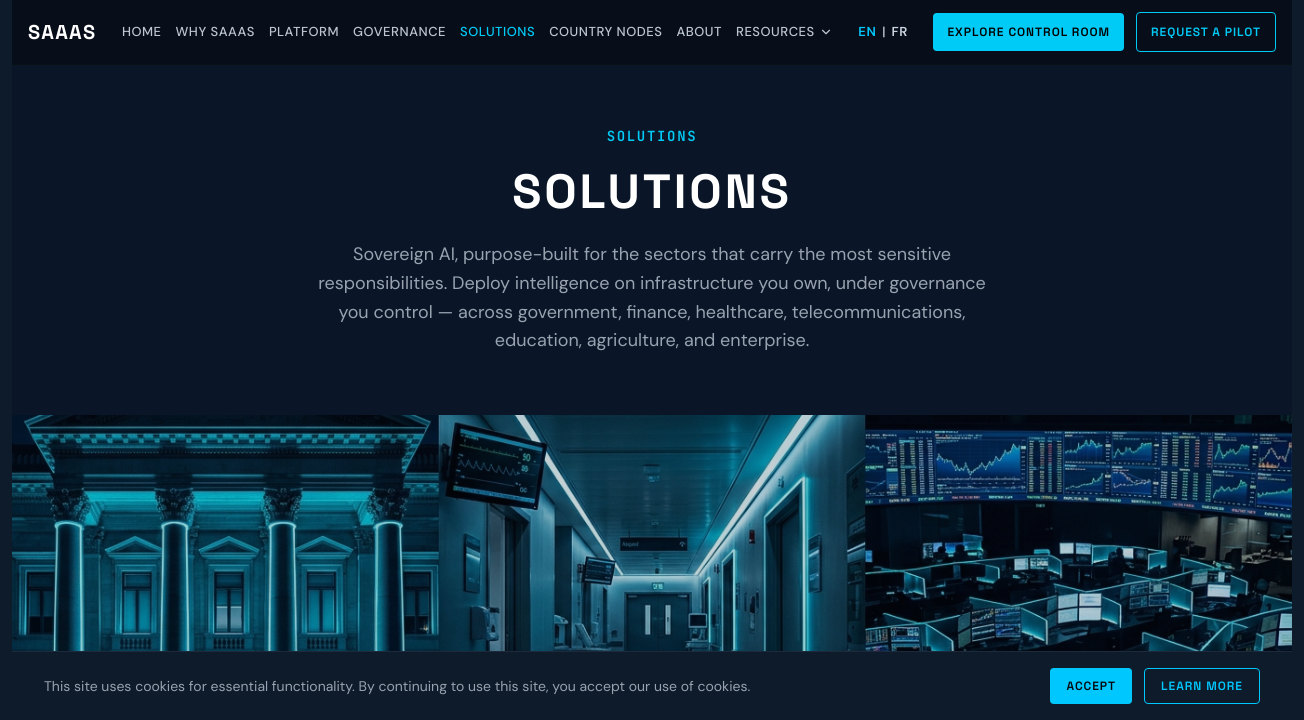
Scenario: Reworded French strings › shows the corrected Why SAAAS bottom CTA copy in French
Check: the heading "Solutions" is shown, box [512,161,792,222]
Click the button "FR" at [900, 32], box [892,22,908,42]
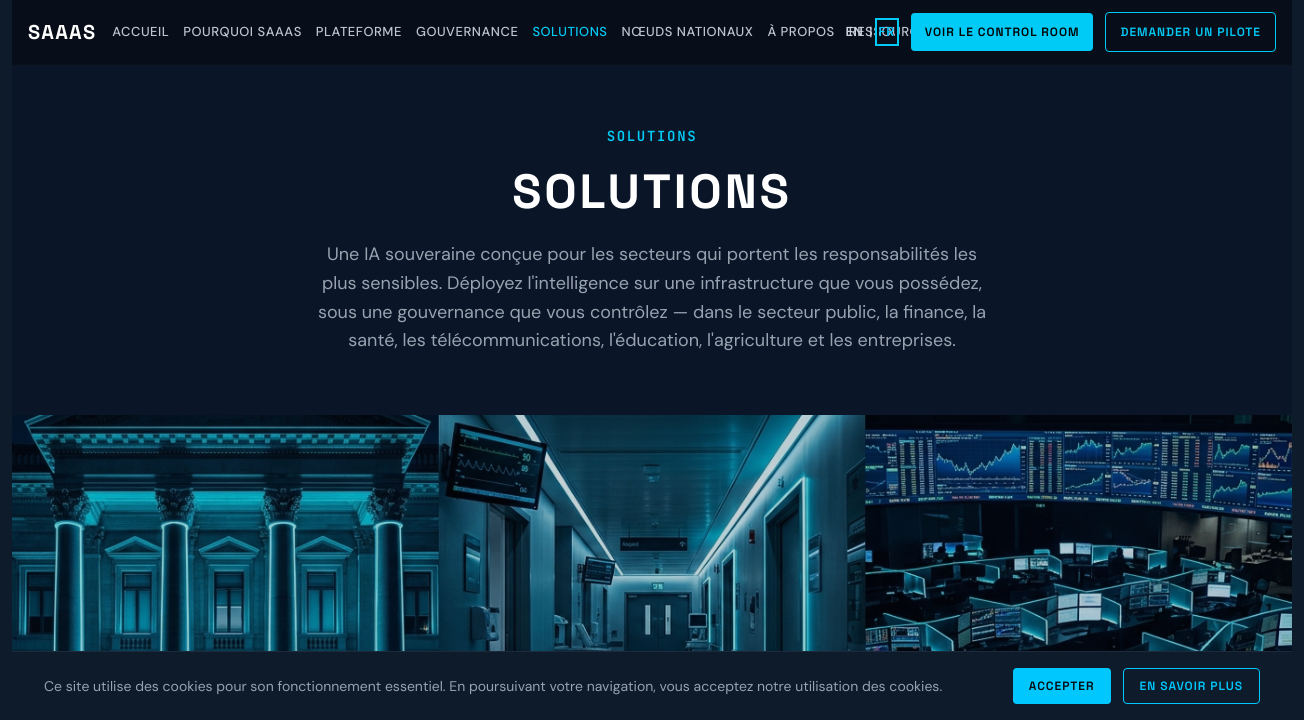
Click the link "POURQUOI SAAAS" at [243, 32], box [183,22,302,42]
(page scrolled)
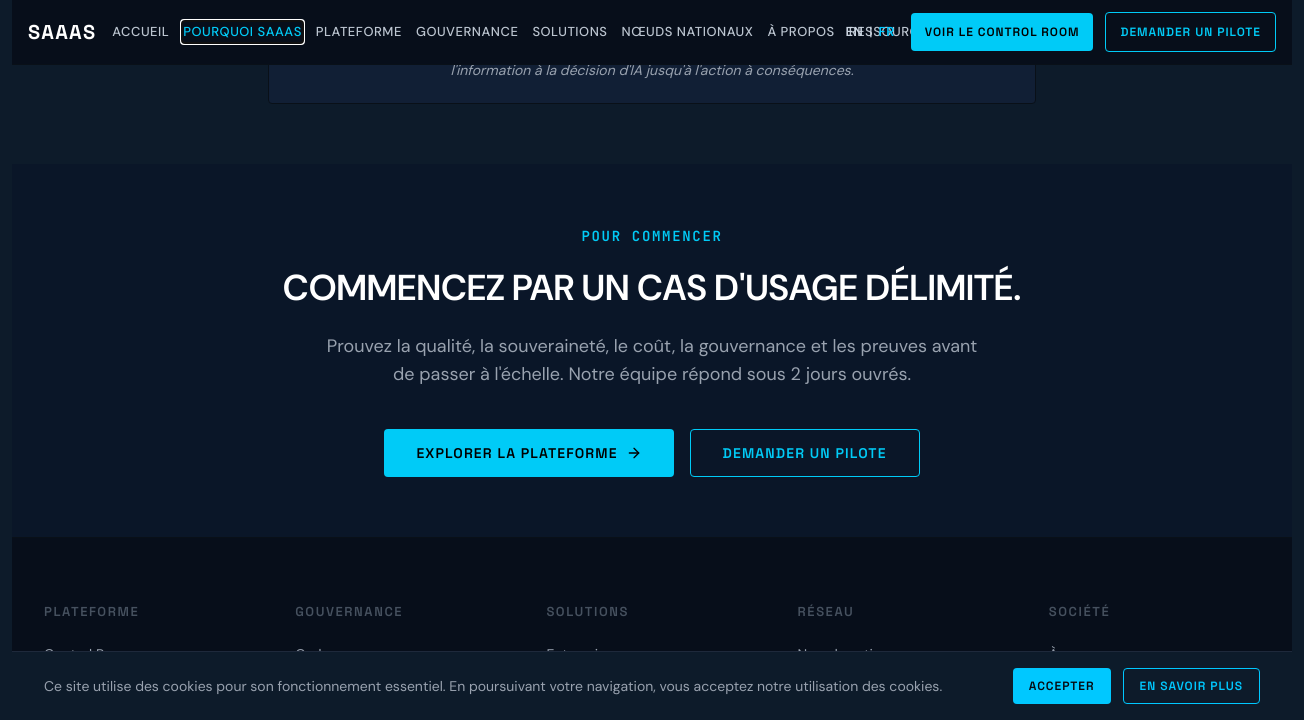
Check: the heading "COMMENCEZ PAR UN CAS D'USAGE DÉLIMITÉ." is shown, box [268,268,1036,308]
Check: the text "prouvez la qualité, la souveraineté, le coût, la gouvernance et les preuves avant de passer à l'échelle" is shown, box [327,334,977,386]
